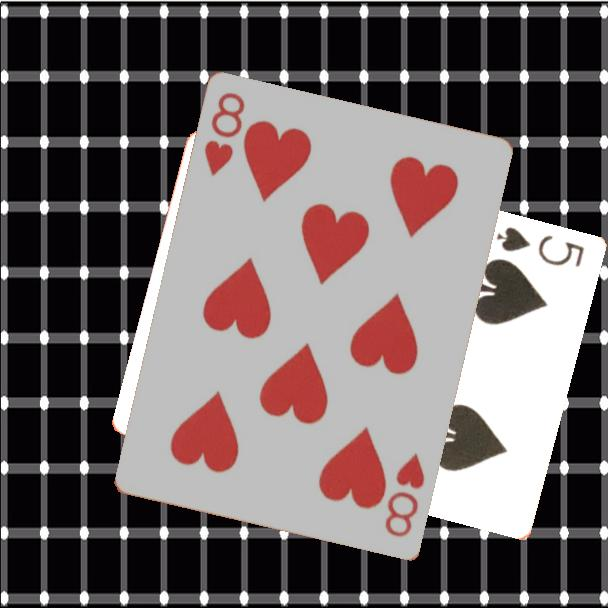h08: (201, 89, 249, 180), (381, 450, 428, 541)
s05: (493, 223, 588, 270)
